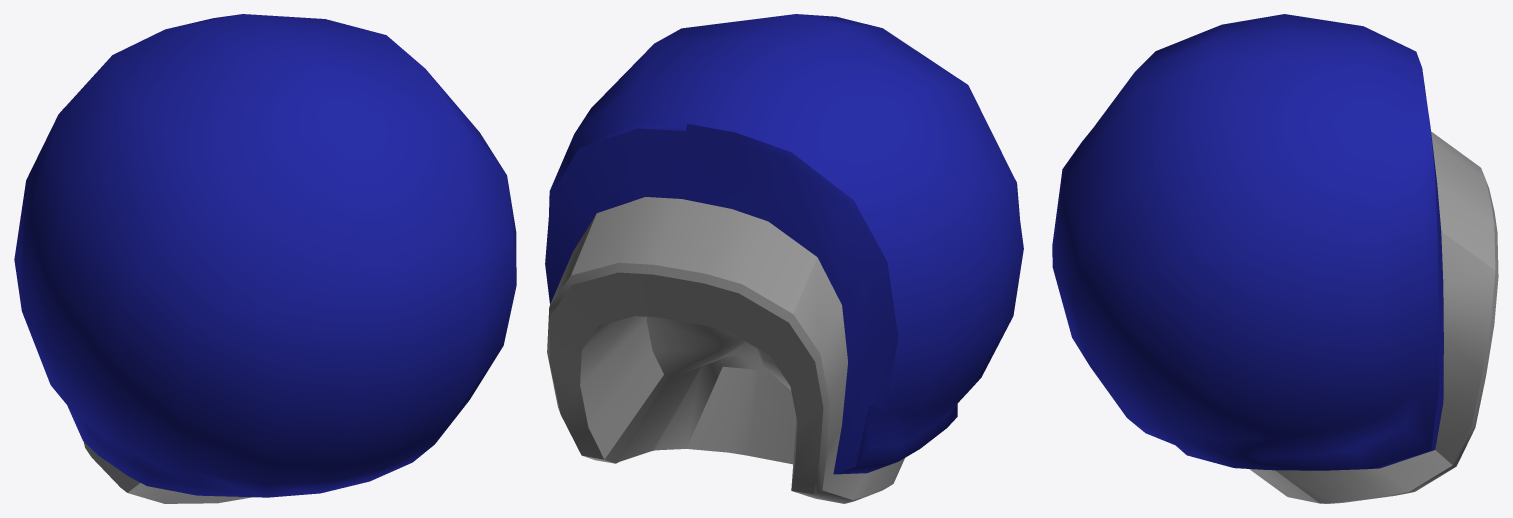
File: Chonk_Shoulder3.FBX
The picture shows the model from 3 angles, left to right: view 1: azimuth 30°, elevation 25°; view 2: azimuth 150°, elevation 25°; view 3: azimuth 270°, elevation 25°; orthographic projection. The views are drawn at different scales.
Visible parts, largest first — view 1: Object082; view 2: Object082; view 3: Object082.
Boxes of the visible parts, box(x1,y1,x2,y2) form: Object082: box(14, 14, 516, 503); Object082: box(545, 14, 1023, 503); Object082: box(1052, 14, 1498, 503).
Size of the model in its own units: 63.78 by 63.13 by 62.36.
